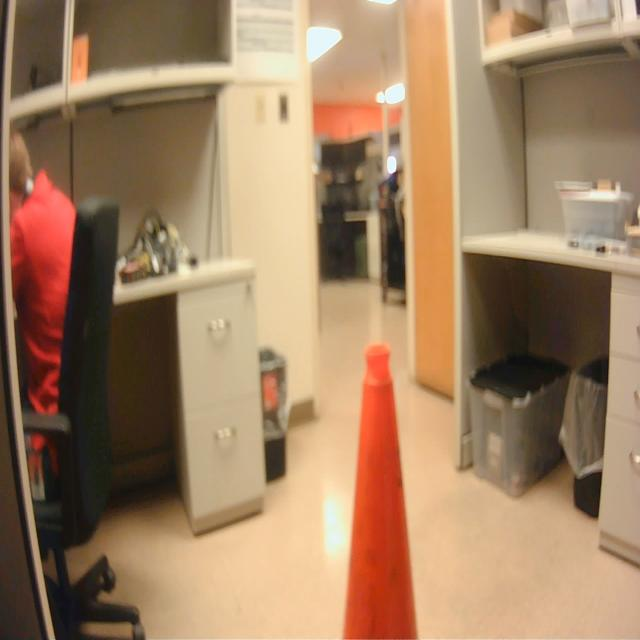traffic cone: (330, 336, 435, 640)
